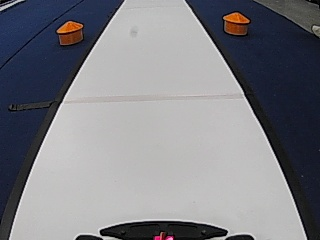granary: (55, 19, 84, 46), (222, 10, 251, 37)
